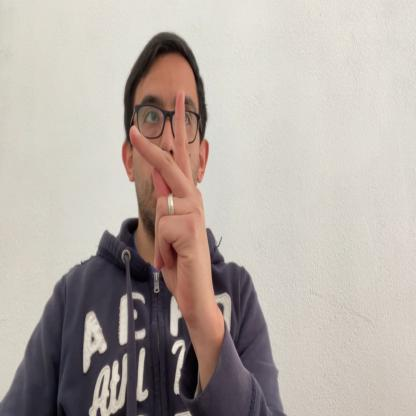P: (130, 89, 211, 337)
